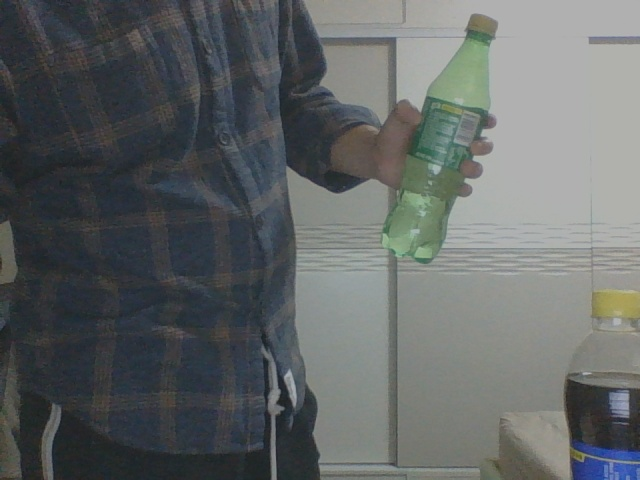Cola: (562, 288, 640, 479)
Sprite: (380, 14, 497, 262)
